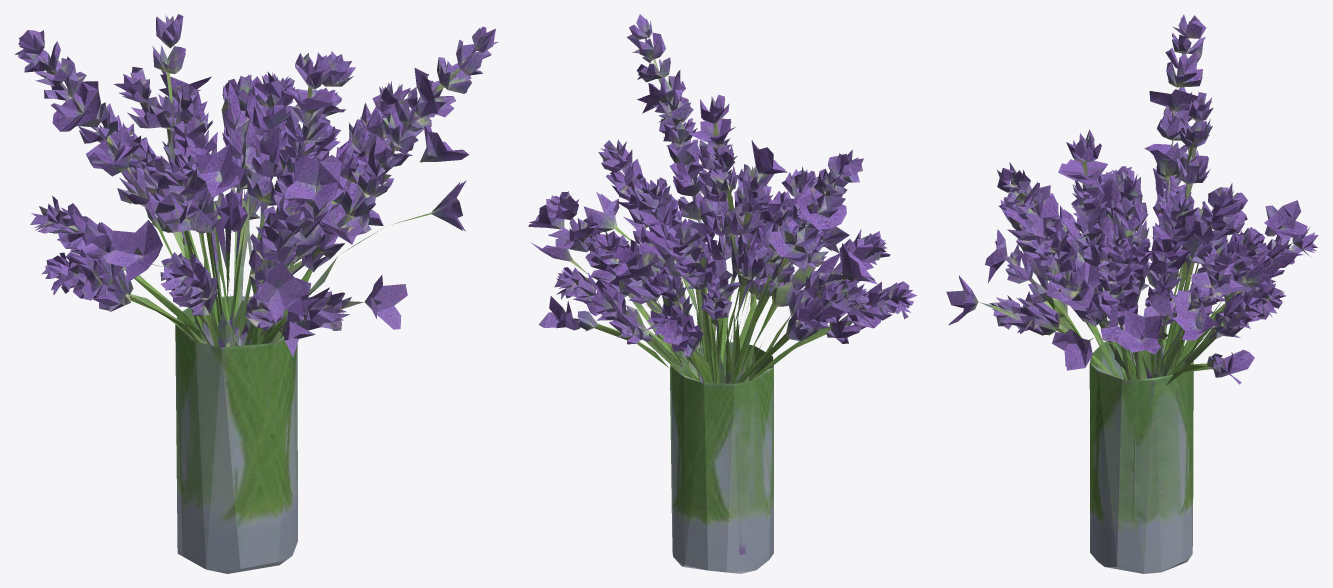
The model's file is lavender.glb.
3 renders of one model, left to right at view 1: azimuth 30°, elevation 25°; view 2: azimuth 150°, elevation 25°; view 3: azimuth 270°, elevation 25°, orthographic. The views are drawn at different scales.
Bounding box in the file's own units: 1.58 × 1.9 × 1.38.
1 material, 1 textured.
